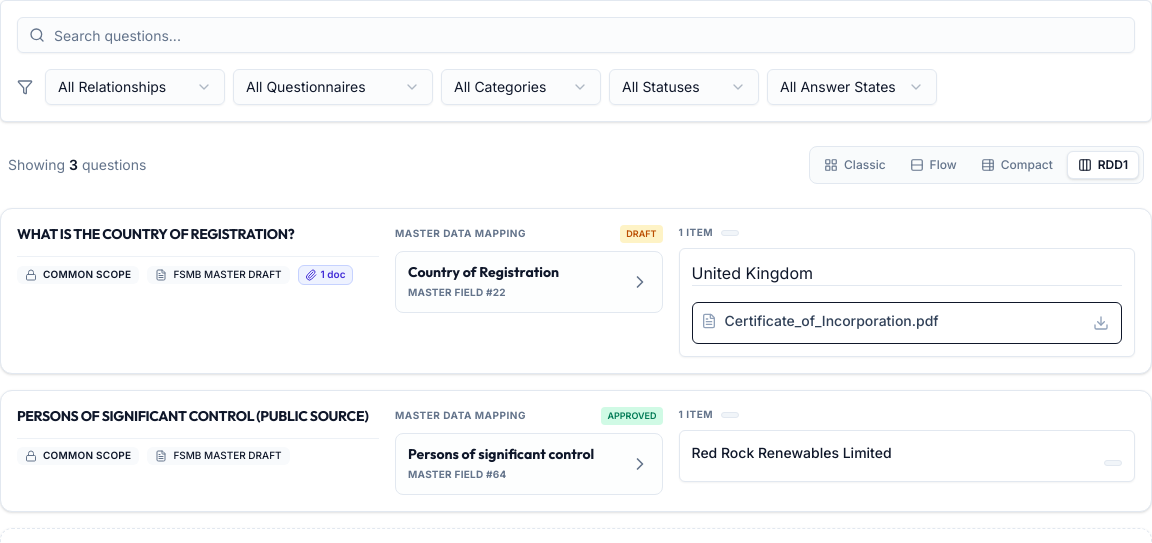
Test: ONP-60: Fourth View Mode (rdd1) Contract & Workbench4 Invariants › 11. Alternative mapping selector displays compact canonical summaries instead of "Structured data"
The image size is (1152, 543).
Open inspection drawer
What coordinates should you click on to do the following:
click the button with test id "rdd1-mapping-tile-q-scalar-1"
I would click on:
 (529, 282)
Its box is top-left (395, 250), bottom-right (662, 313).
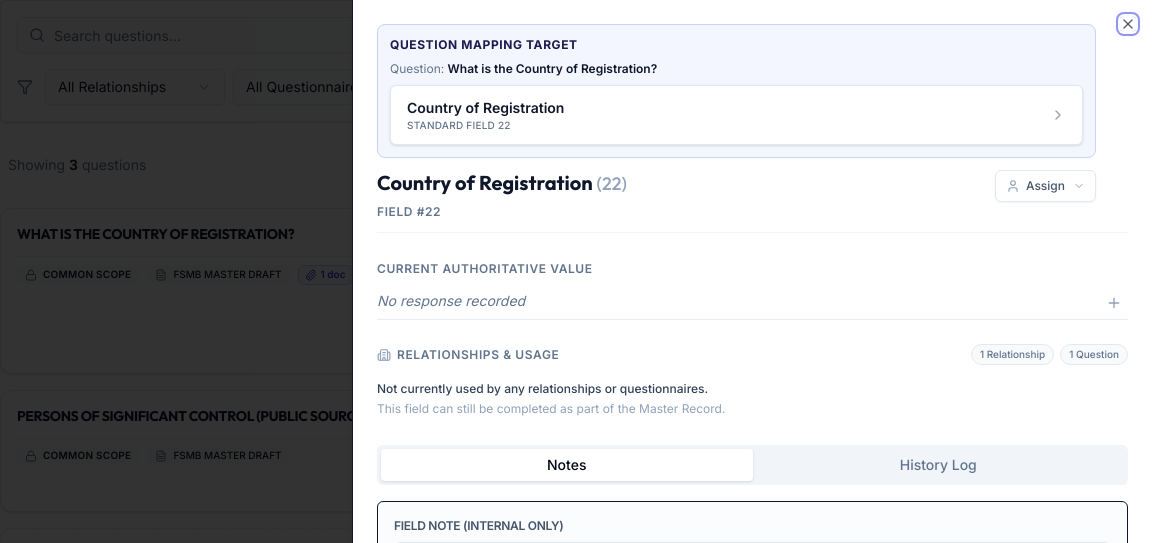
Open SuperFieldSelector
What coordinates should you click on to do the following:
click the dropdown labelled "Country of Registration Standard Field 22"
I would click on:
 (486, 108)
Its box is top-left (390, 85), bottom-right (1083, 145).
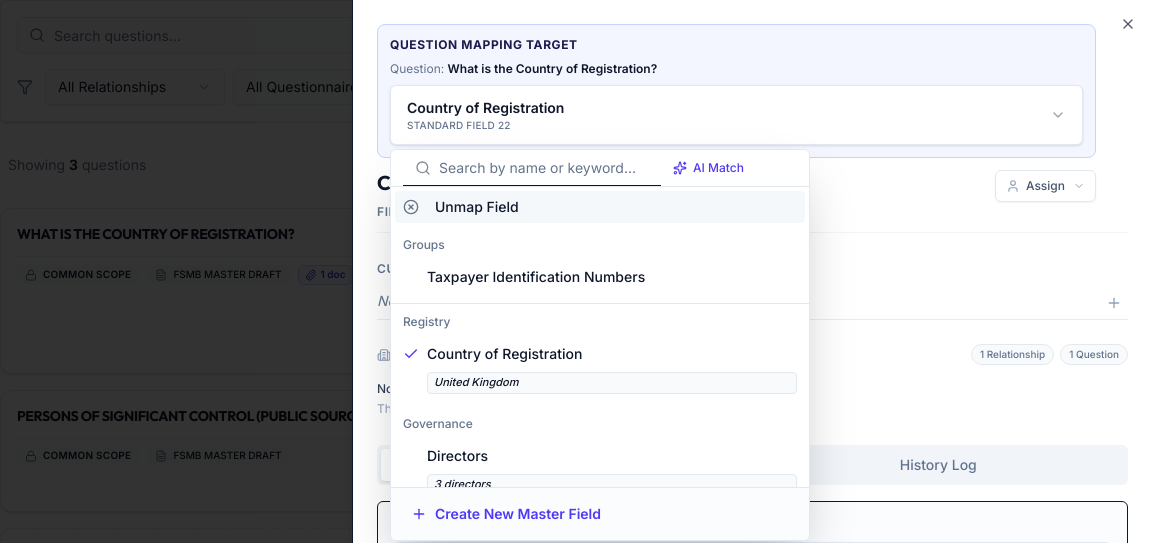
Expected: the text "3 directors" is shown, top-left (427, 474), bottom-right (797, 487)
